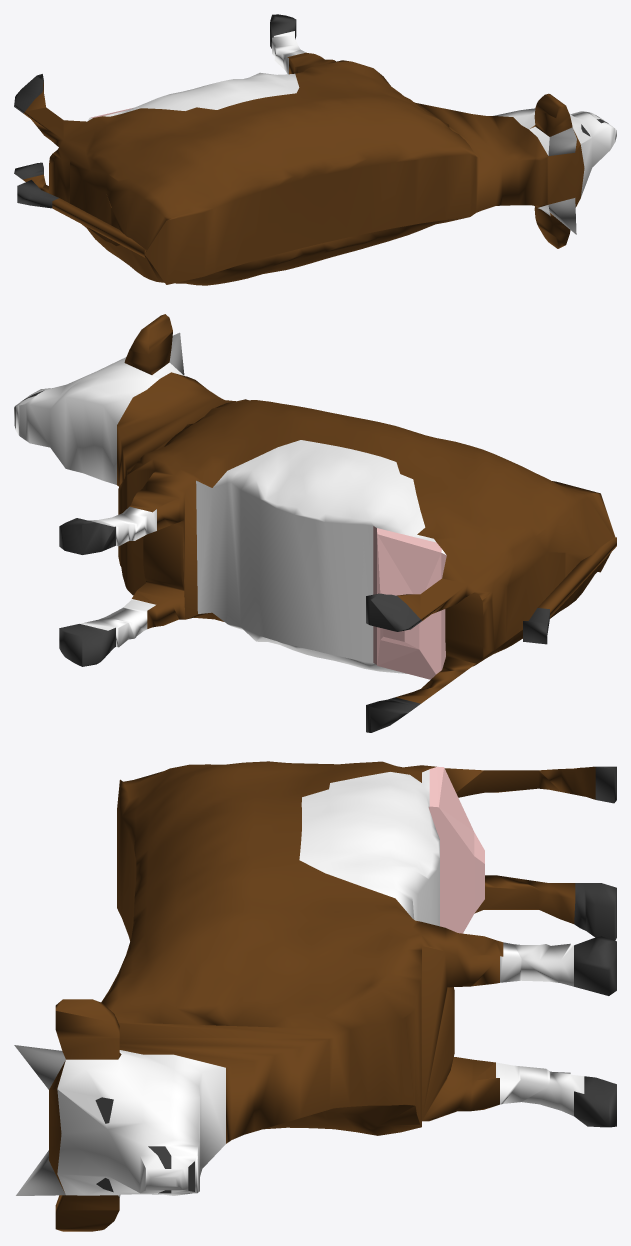
Rendered from cow.dae.
3 views of the same model, one above another, from view 1: azimuth 30°, elevation 25°; view 2: azimuth 150°, elevation 25°; view 3: azimuth 270°, elevation 25° (orthographic). The views are drawn at different scales.
Visible parts, largest first — view 1: coords_ME_ID19_MA_Color_C17, coords_ME_ID3_MA_material, coords_ME_ID39_MA_material, coords_ME_ID27_MA_Color_C17, coords_ME_ID71_MA_Color_C17, coords_ME_ID83_MA_material, coords_ME_ID33_MA_Color_007, coords_ME_ID89_MA_Color_007, coords_ME_ID109_MA_Color_004, coords_ME_ID95_MA_Color_004, coords_ME_ID51_MA_Color_007; view 2: coords_ME_ID19_MA_Color_C17, coords_ME_ID3_MA_material, coords_ME_ID39_MA_material, coords_ME_ID57_MA_Color_A05, coords_ME_ID27_MA_Color_C17, coords_ME_ID77_MA_Color_007, coords_ME_ID51_MA_Color_007, coords_ME_ID89_MA_Color_007, coords_ME_ID65_MA_material, coords_ME_ID83_MA_material, coords_ME_ID45_MA_Color_007, coords_ME_ID33_MA_Color_007; view 3: coords_ME_ID19_MA_Color_C17, coords_ME_ID39_MA_material, coords_ME_ID3_MA_material, coords_ME_ID57_MA_Color_A05, coords_ME_ID27_MA_Color_C17, coords_ME_ID65_MA_material, coords_ME_ID83_MA_material, coords_ME_ID51_MA_Color_007, coords_ME_ID71_MA_Color_C17, coords_ME_ID45_MA_Color_007, coords_ME_ID77_MA_Color_007, coords_ME_ID95_MA_Color_004 (+2 smaller).
Part boxes in pixels (x1,y1,x2,y2): coords_ME_ID19_MA_Color_C17: (23,52,584,285); coords_ME_ID3_MA_material: (103,72,299,116); coords_ME_ID39_MA_material: (493,108,616,216); coords_ME_ID27_MA_Color_C17: (530,93,572,136); coords_ME_ID71_MA_Color_C17: (534,206,570,248); coords_ME_ID83_MA_material: (272,31,305,74); coords_ME_ID33_MA_Color_007: (17,180,59,208); coords_ME_ID89_MA_Color_007: (14,74,43,113); coords_ME_ID109_MA_Color_004: (548,198,576,234); coords_ME_ID95_MA_Color_004: (548,127,576,155); coords_ME_ID51_MA_Color_007: (270,14,296,48); coords_ME_ID19_MA_Color_C17: (117,372,616,703); coords_ME_ID3_MA_material: (196,440,436,673); coords_ME_ID39_MA_material: (14,357,159,484); coords_ME_ID57_MA_Color_A05: (373,526,446,679); coords_ME_ID27_MA_Color_C17: (124,314,172,374); coords_ME_ID77_MA_Color_007: (59,624,115,666); coords_ME_ID51_MA_Color_007: (59,518,115,554); coords_ME_ID89_MA_Color_007: (366,593,421,631); coords_ME_ID65_MA_material: (80,599,155,647); coords_ME_ID83_MA_material: (88,506,156,546); coords_ME_ID45_MA_Color_007: (366,697,420,732); coords_ME_ID33_MA_Color_007: (523,608,549,644); coords_ME_ID19_MA_Color_C17: (49,761,595,1192); coords_ME_ID39_MA_material: (57,1050,225,1197); coords_ME_ID3_MA_material: (299,769,439,926); coords_ME_ID57_MA_Color_A05: (428,766,484,933); coords_ME_ID27_MA_Color_C17: (55,999,121,1059); coords_ME_ID65_MA_material: (496,1062,584,1116); coords_ME_ID83_MA_material: (500,942,573,986); coords_ME_ID51_MA_Color_007: (574,936,616,995); coords_ME_ID71_MA_Color_C17: (55,1195,119,1231); coords_ME_ID45_MA_Color_007: (574,883,616,940); coords_ME_ID77_MA_Color_007: (574,1076,616,1127); coords_ME_ID95_MA_Color_004: (14,1045,65,1089).
Bounding box in the file's own units: 25.49 × 7.31 × 16.54.
